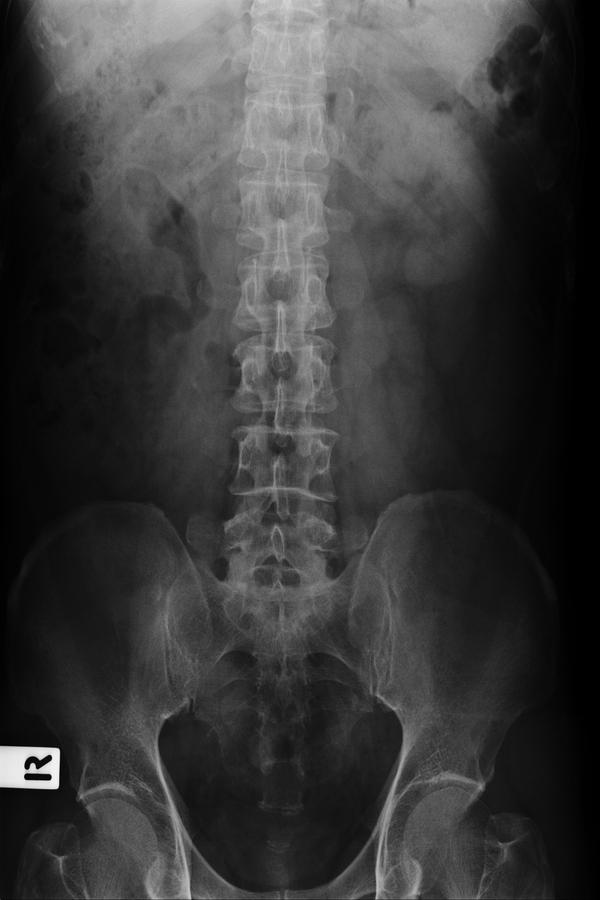not lumbar scoliosis: (229, 187, 341, 602)
